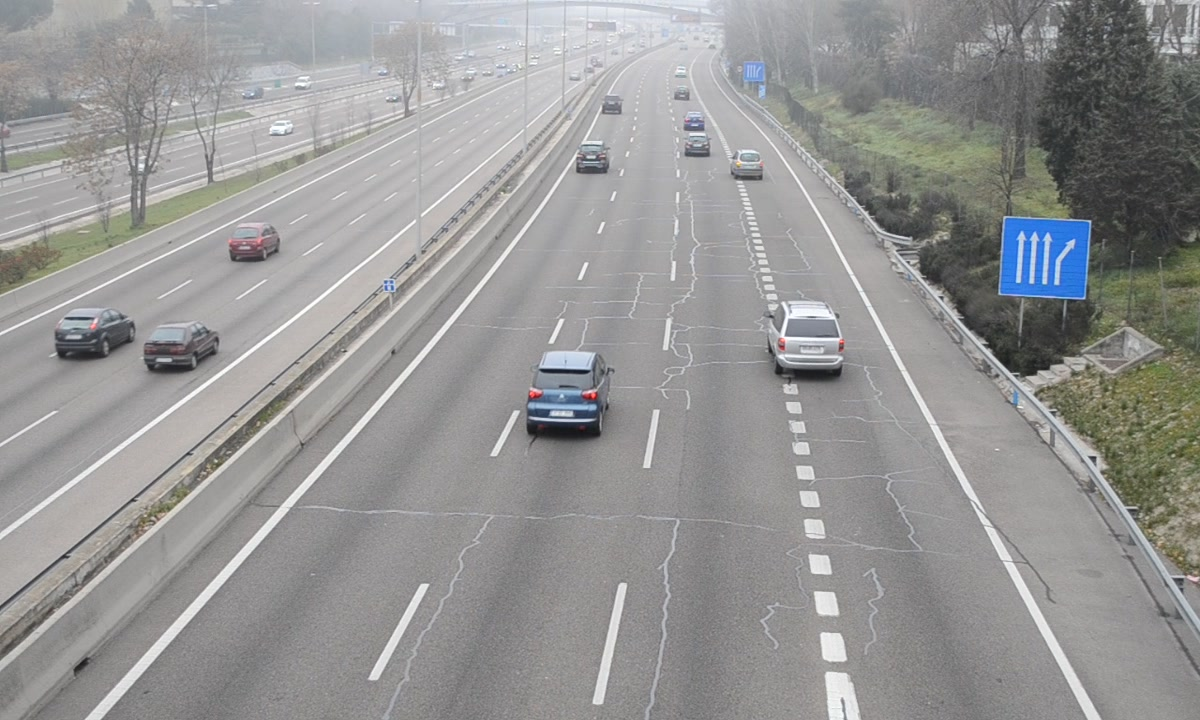car: (528, 350, 611, 431), (767, 301, 844, 373), (576, 140, 610, 174), (730, 148, 764, 181), (684, 131, 711, 158)
